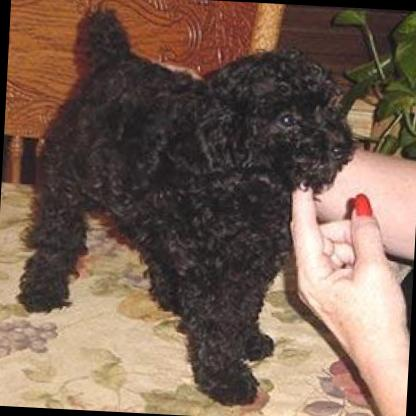toy_poodle: (10, 2, 362, 413)
